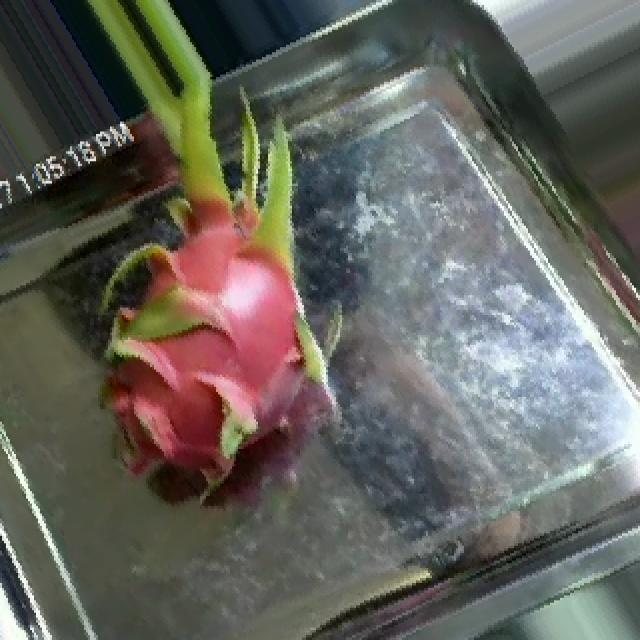fruit: (2, 72, 420, 528)
